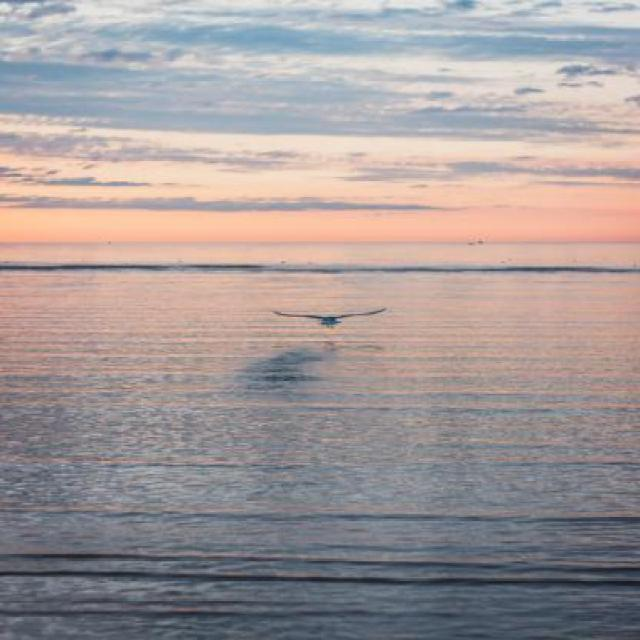bird: (274, 308, 389, 329)
